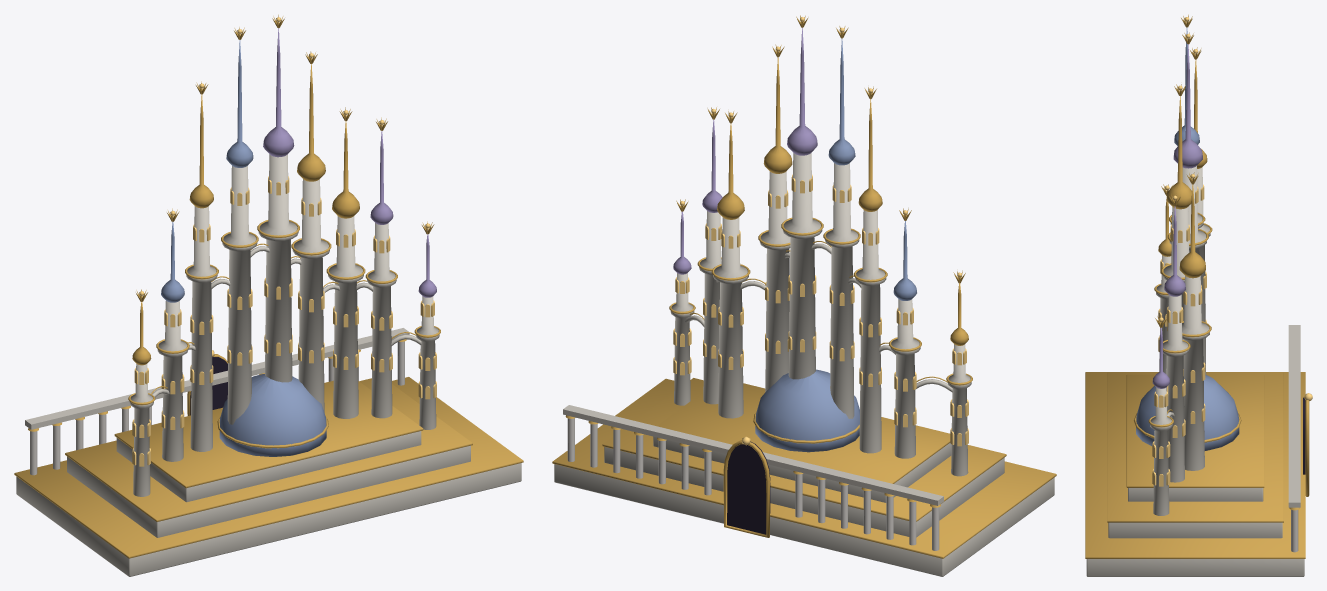
File: fae_palace_c.glb
The picture shows the model from 3 angles, left to right: view 1: azimuth 30°, elevation 25°; view 2: azimuth 150°, elevation 25°; view 3: azimuth 270°, elevation 25°; orthographic projection. The views are drawn at different scales.
Visible parts, largest first — view 1: fae_palace_c; view 2: fae_palace_c; view 3: fae_palace_c.
Part boxes in pixels (box(x1,y1,x2,y2)): fae_palace_c: box(14, 14, 523, 576); fae_palace_c: box(552, 15, 1056, 576); fae_palace_c: box(1085, 14, 1312, 576).
Bounding box in the file's own units: 11.06 × 12.68 × 5.73.
